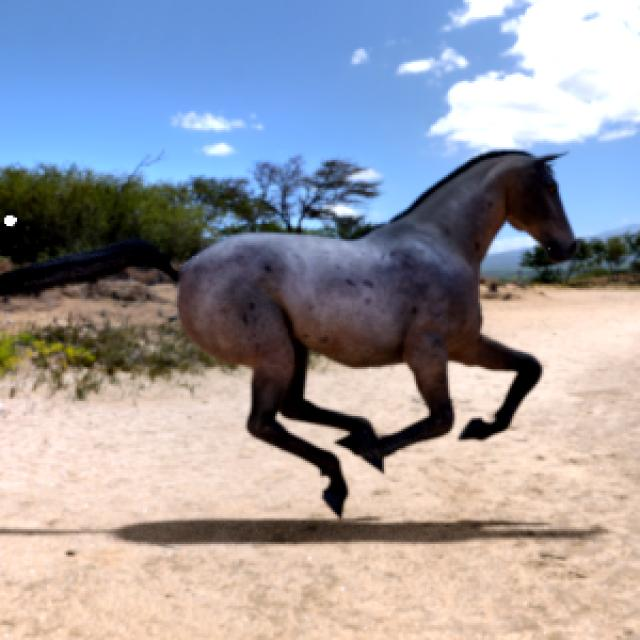horse: (0, 150, 576, 514)
